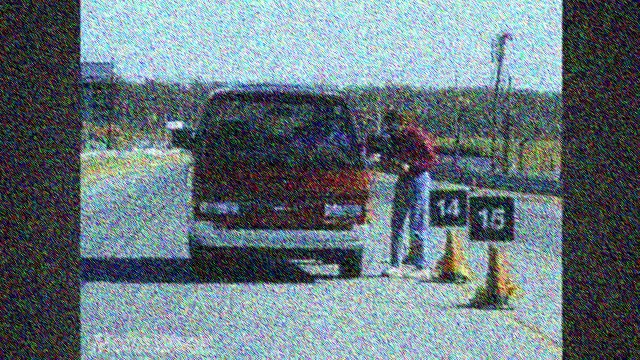van: (181, 83, 376, 275)
